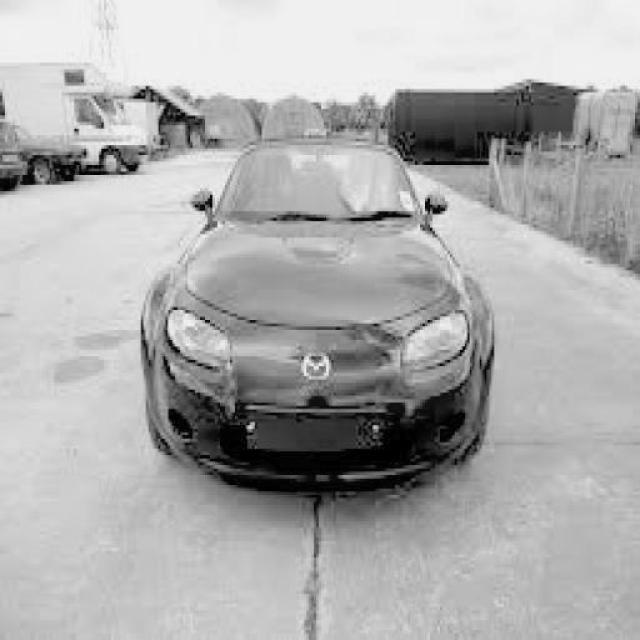car damage: (155, 346, 243, 414)
